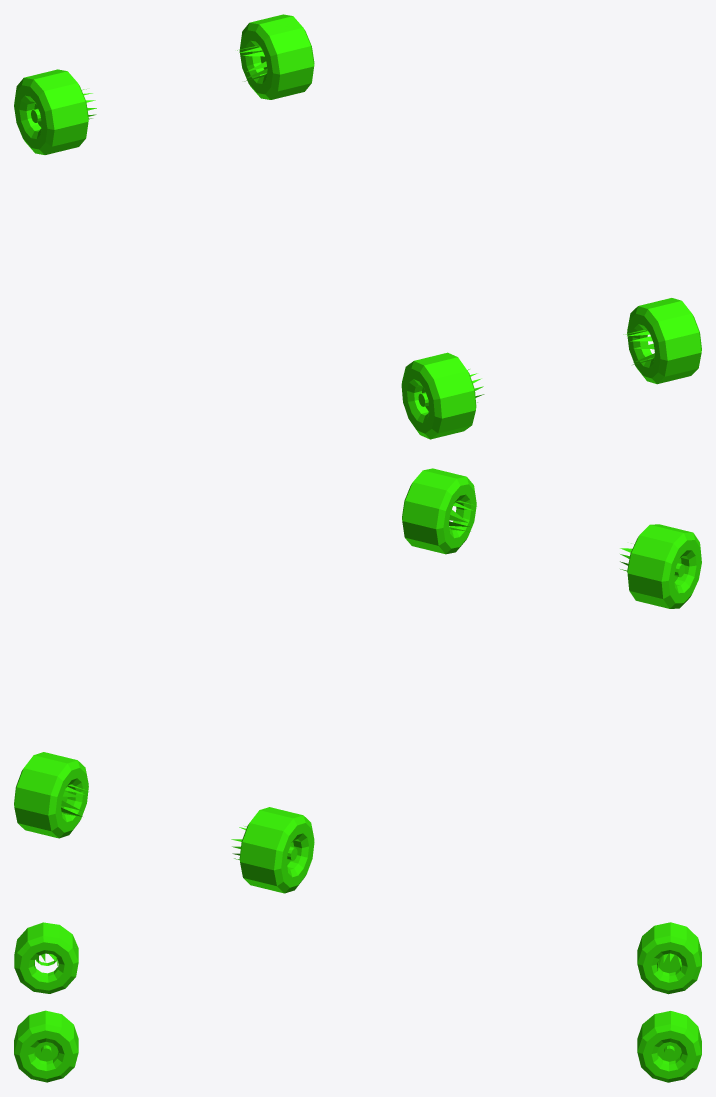
The model's file is light_green.glb.
3 renders of one model, top to bottom at view 1: azimuth 30°, elevation 25°; view 2: azimuth 150°, elevation 25°; view 3: azimuth 270°, elevation 25°, orthographic. The views are drawn at different scales.
Parts seen in each view (by area): view 1: WheelFR, WheelRR, WheelFL, WheelRL; view 2: WheelFR, WheelRR, WheelFL, WheelRL; view 3: WheelRL, WheelFL, WheelFR, WheelRR.
Boxes of the visible parts, x1,y1,x2,y2 form: WheelFR: [14, 69, 96, 154]; WheelRR: [401, 352, 484, 439]; WheelFL: [237, 14, 314, 99]; WheelRL: [623, 298, 701, 384]; WheelFR: [231, 807, 314, 893]; WheelRR: [620, 524, 701, 608]; WheelFL: [14, 752, 88, 838]; WheelRL: [402, 468, 476, 554]; WheelRL: [14, 1010, 78, 1082]; WheelFL: [637, 1011, 701, 1082]; WheelFR: [637, 922, 701, 994]; WheelRR: [14, 922, 78, 993].
Size of the model in its own units: 3.29 by 0.8599 by 9.13.
Materials: 1 (1 with a texture image).
